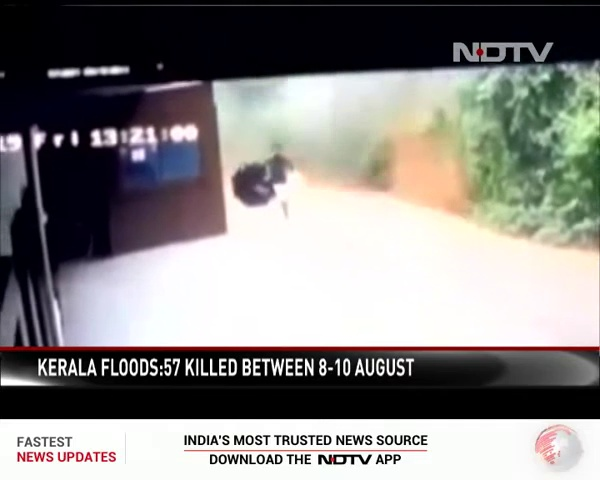person: (263, 142, 297, 210)
